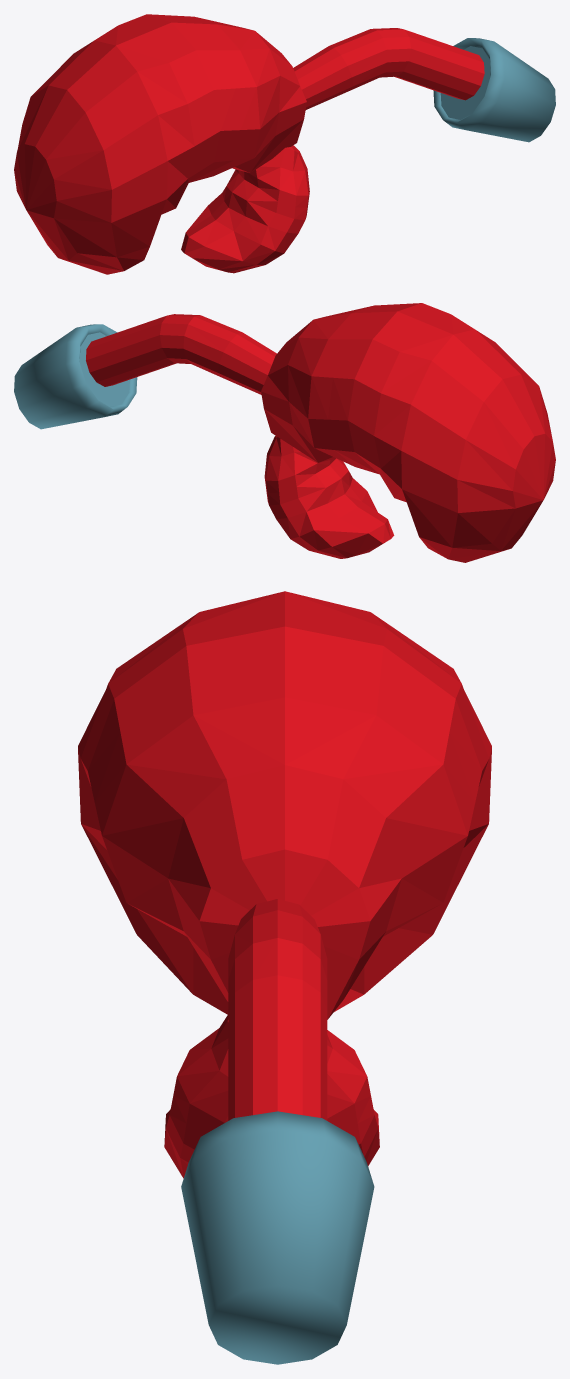
Rendered from ManoD_cangrejo.obj.
3 views of the same model, one above another, from view 1: azimuth 30°, elevation 25°; view 2: azimuth 150°, elevation 25°; view 3: azimuth 270°, elevation 25° (orthographic). The views are drawn at different scales.
Parts seen in each view (by area): view 1: Left_shoulder; view 2: Left_shoulder; view 3: Left_shoulder.
Boxes of the visible parts, <box> form: Left_shoulder: <box>14,14,555,274</box>; Left_shoulder: <box>14,303,555,562</box>; Left_shoulder: <box>78,591,491,1364</box>.
Size of the model in its own units: 293 by 139 by 101.
2 materials, 2 textured.
